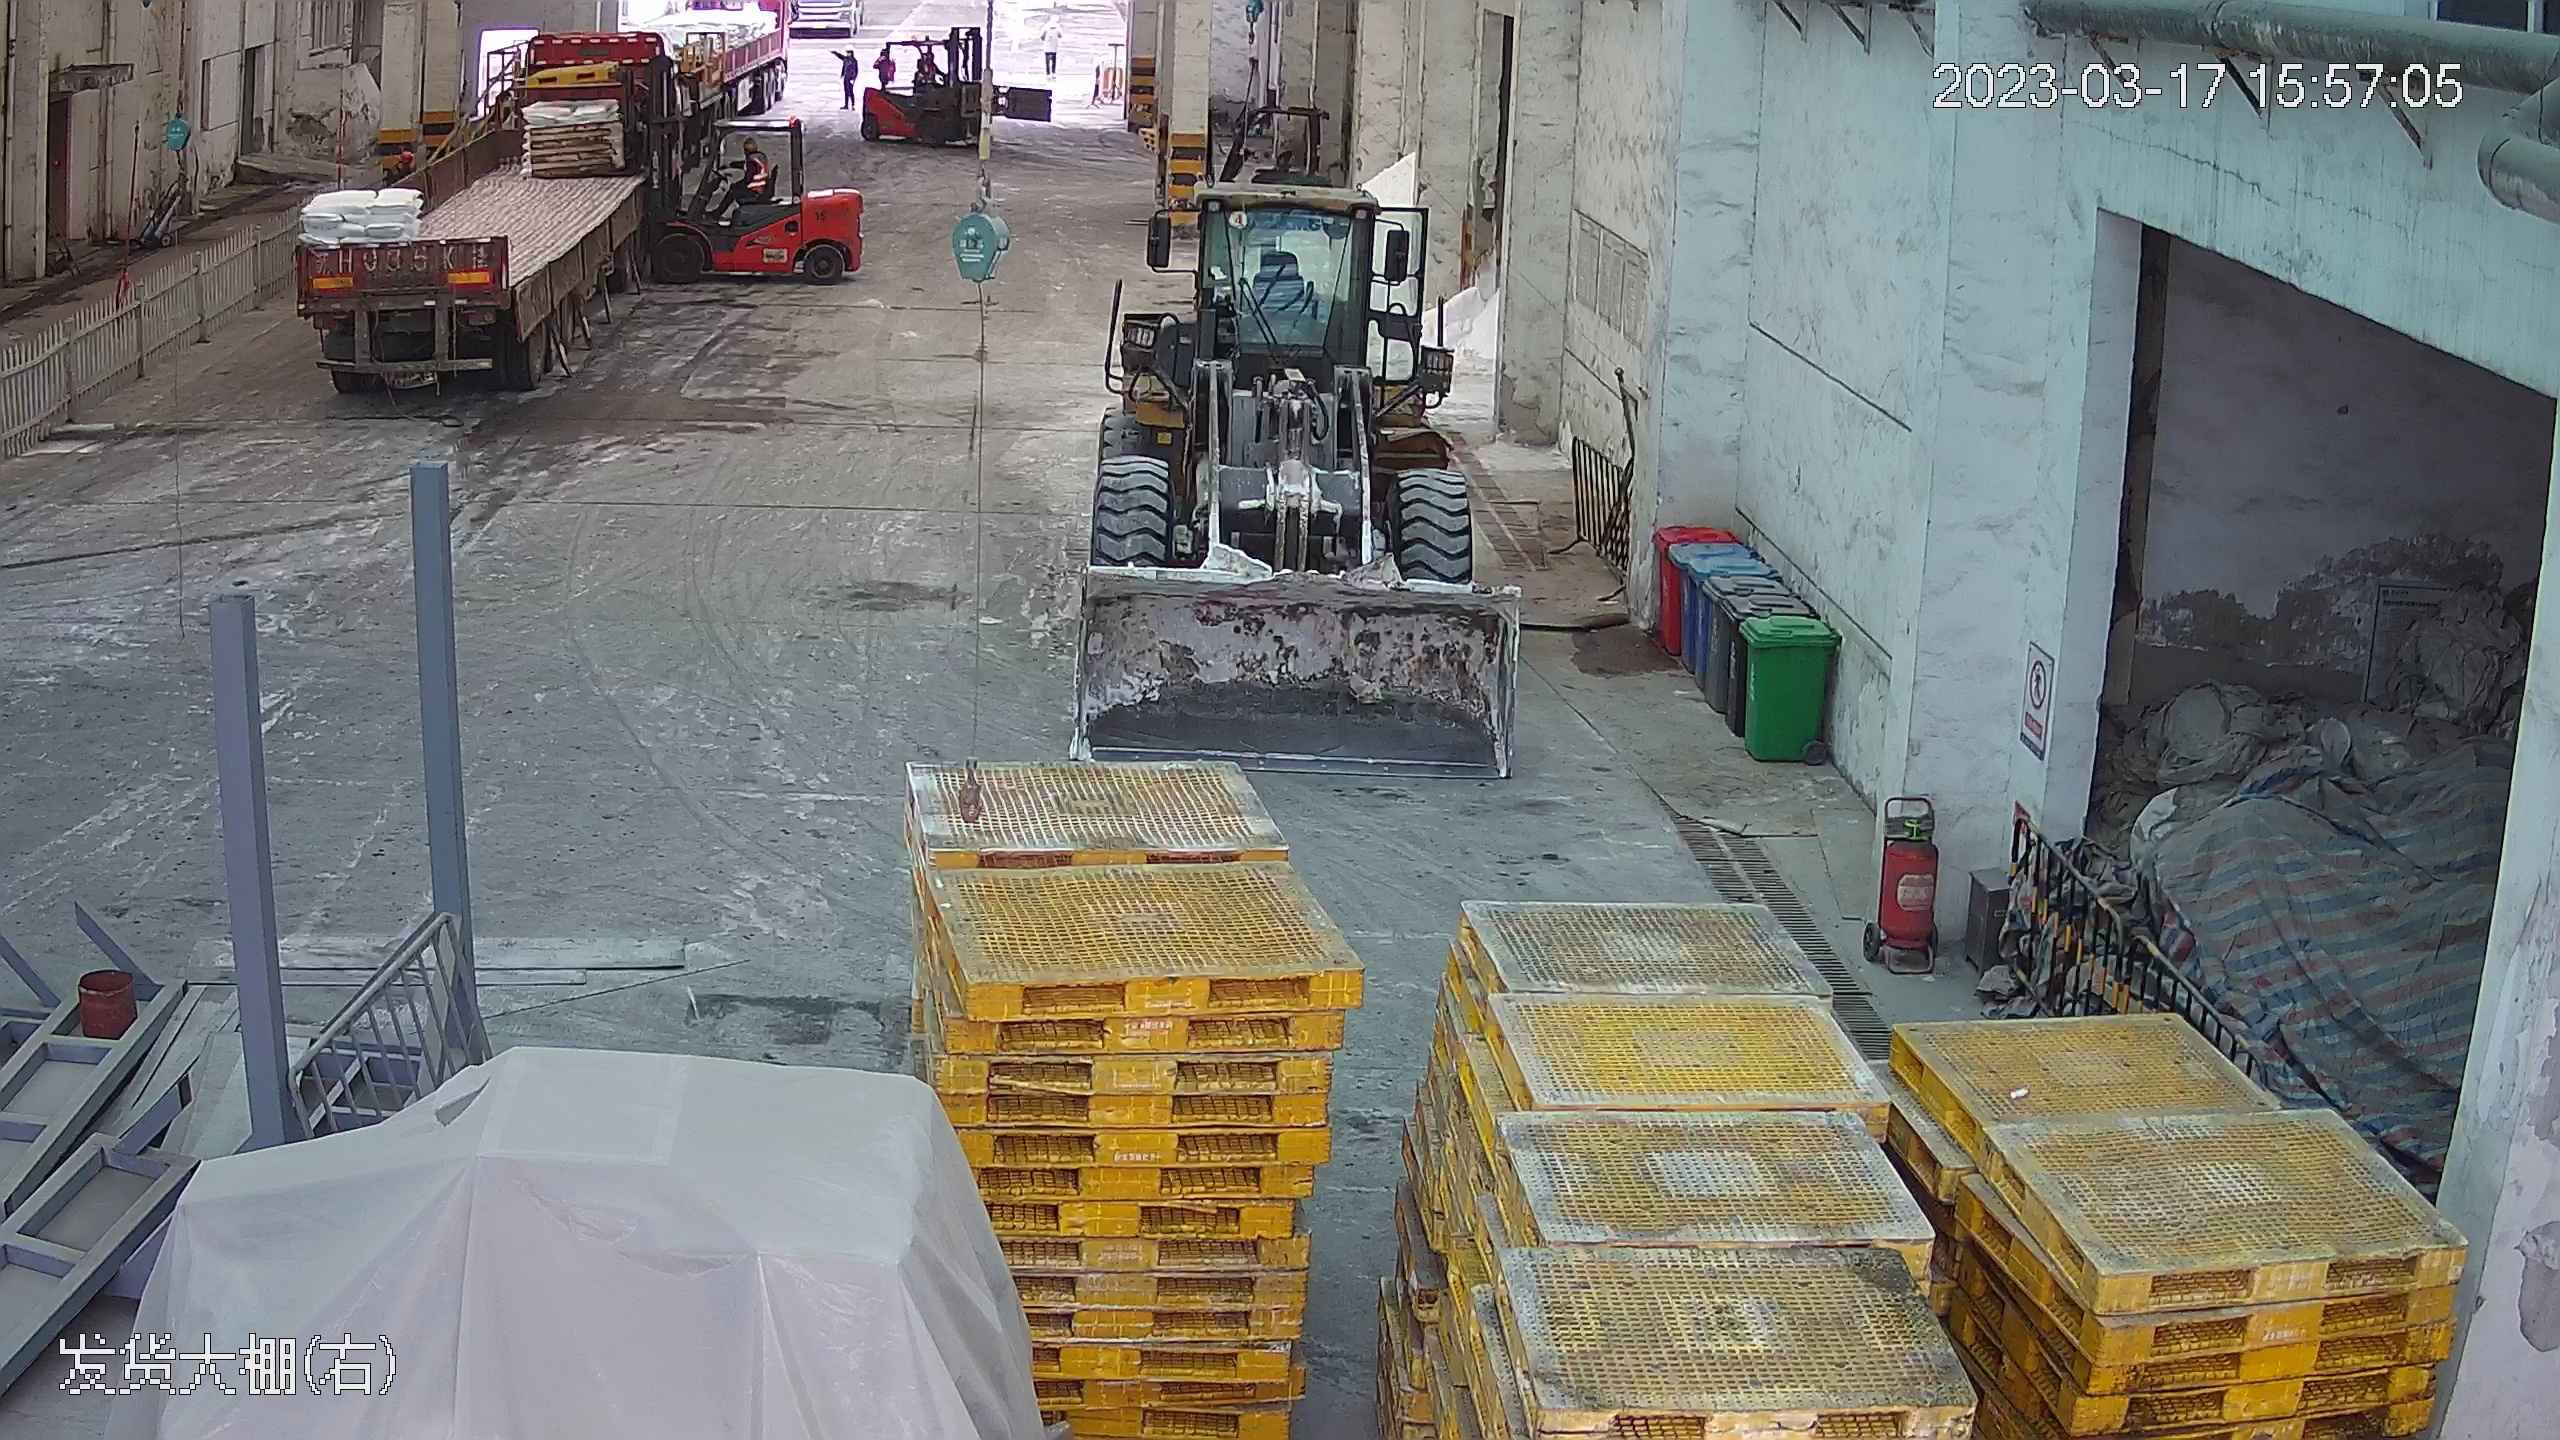head: (741, 133, 768, 178)
helmet: (741, 136, 759, 149)
people: (709, 136, 771, 223), (1038, 13, 1063, 84), (834, 44, 857, 113)
truck: (277, 13, 674, 404)
